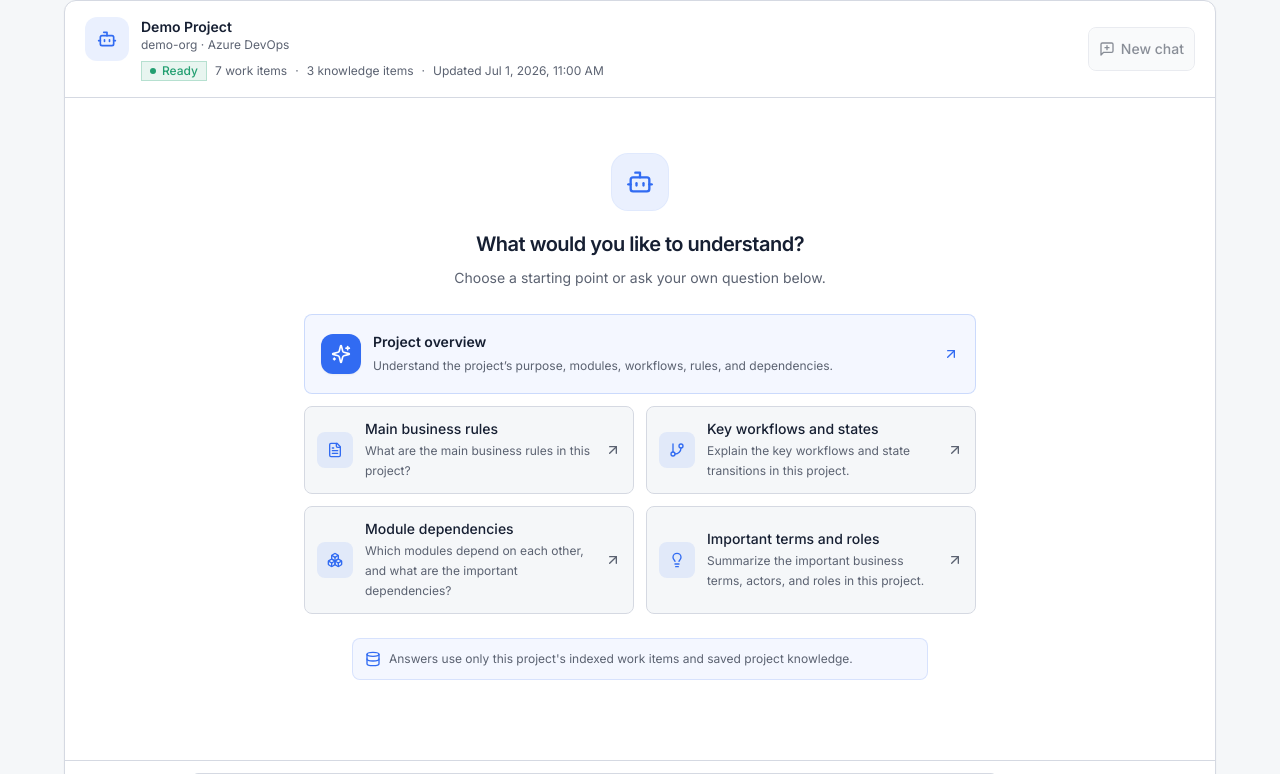
BusinessOwnerAssistantClient › shows project readiness and submits the featured project overview immediately
Expected: the text "Ready" is shown, [141,61,207,81]
Expected: the text "7 work items" is shown, [215,63,287,79]
Click the button "Project overview".
click(341, 354)  # box [304,314,976,394]
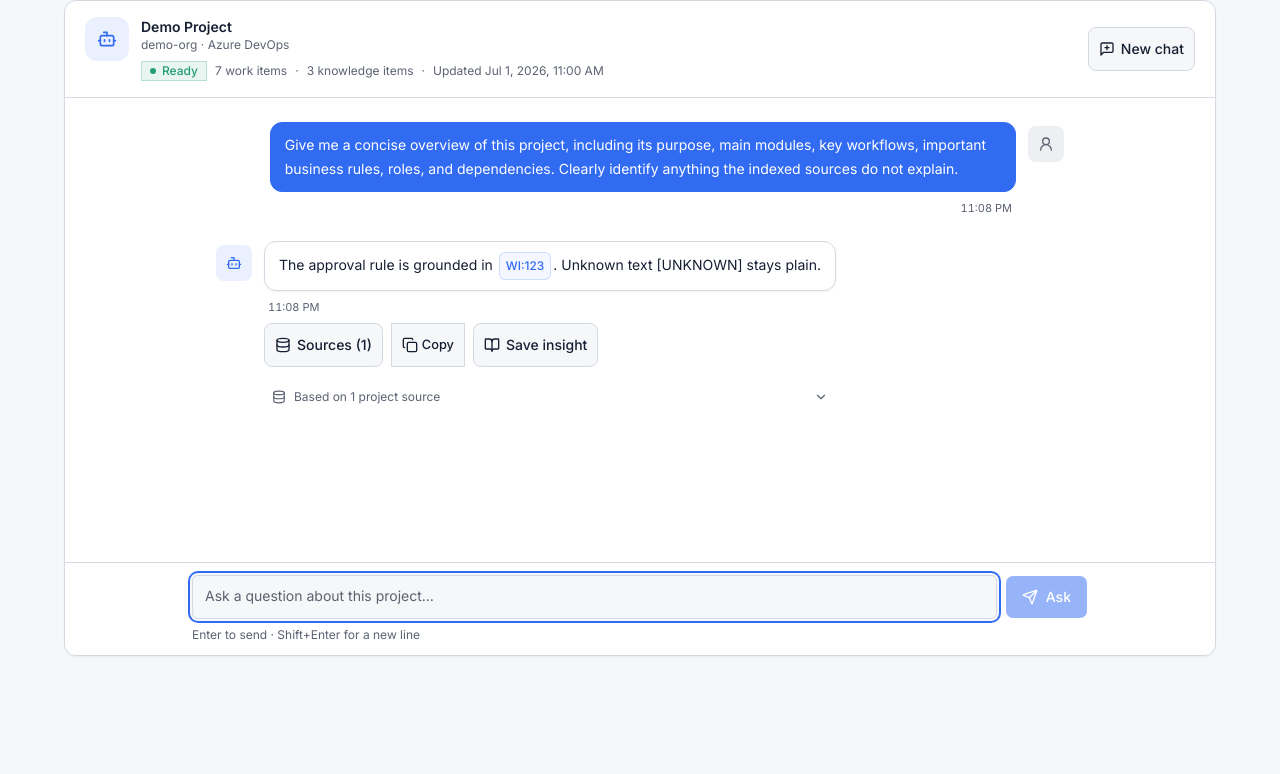
Expected: the text "approval rule is grounded" is shown, [279,256,497,272]
Expected: the button "Sources (1)" is shown, [264,323,383,367]
Expected: the heading "Based on 1 project source" is shown, [272,389,828,404]
